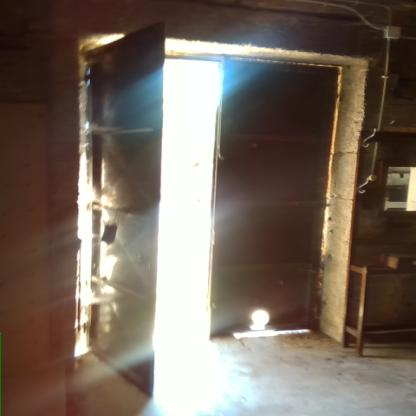open: (73, 24, 351, 398)
